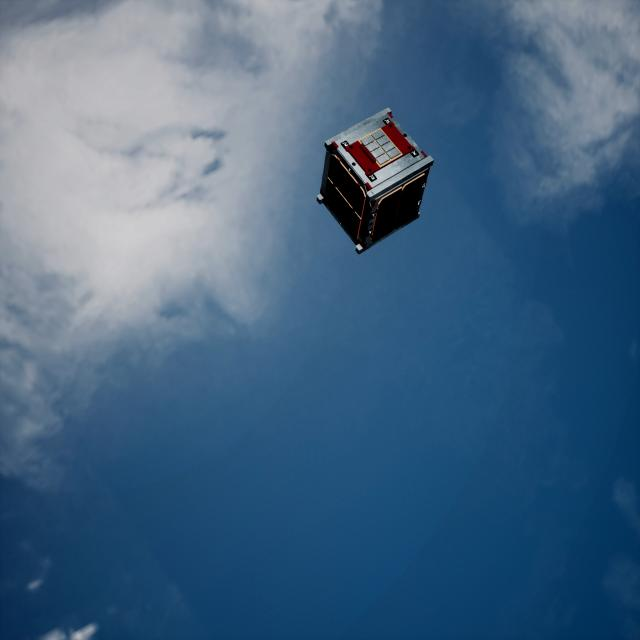medium_debris: (317, 106, 434, 258)
